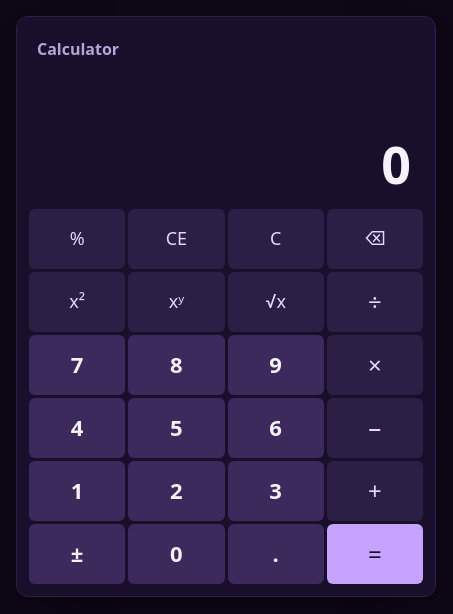
Test: <Calculator /> › calculates with the backend when "=" is pressed
The image size is (453, 614).
Click the button "2". click: (176,490)
box: [128,460,225,520]
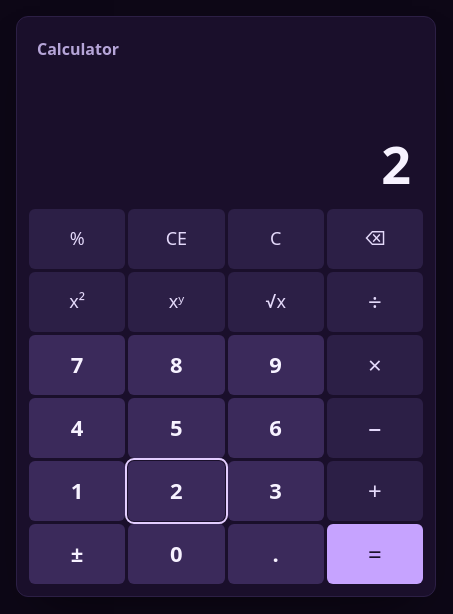
Click the button with aria-label "Power". click: (176,302)
box: [128,272,225,332]
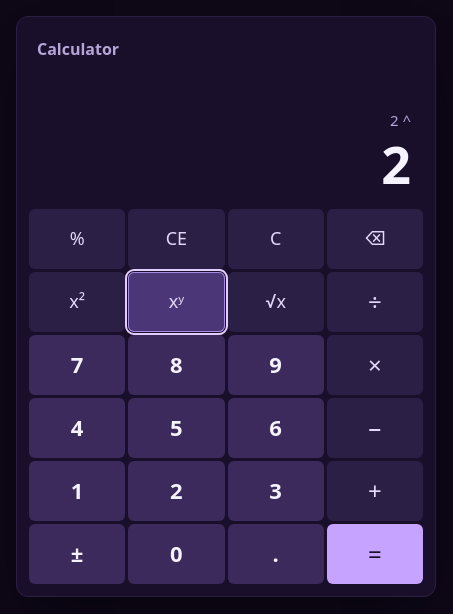
expect the text with test id "expression" reads "2 ^": met, box [390,110,411,130]
Click the button "1". click: (77,490)
box: [29,460,125,520]
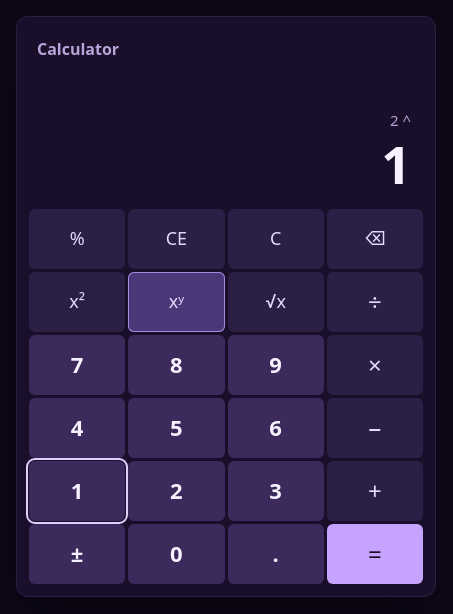
Click the button "0". click: (176,554)
box: [128,524,225,584]
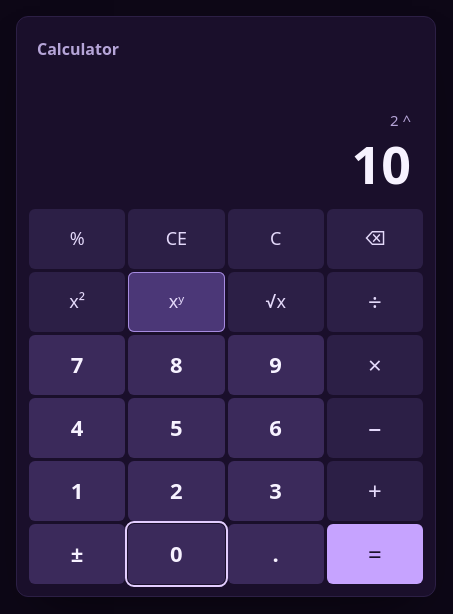
Click the button named "Equals". click: (375,554)
box: [327,524,423,584]
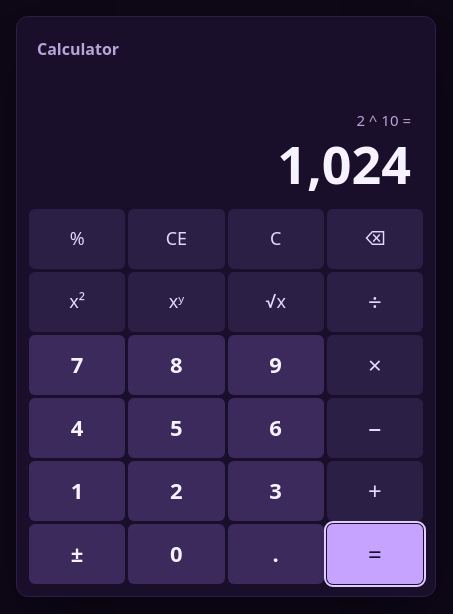
expect the text with test id "result-value" reads "1,024": met, box [277,128,411,199]
expect the text with test id "expression" reads "2 ^ 10 =": met, box [356,110,411,130]
